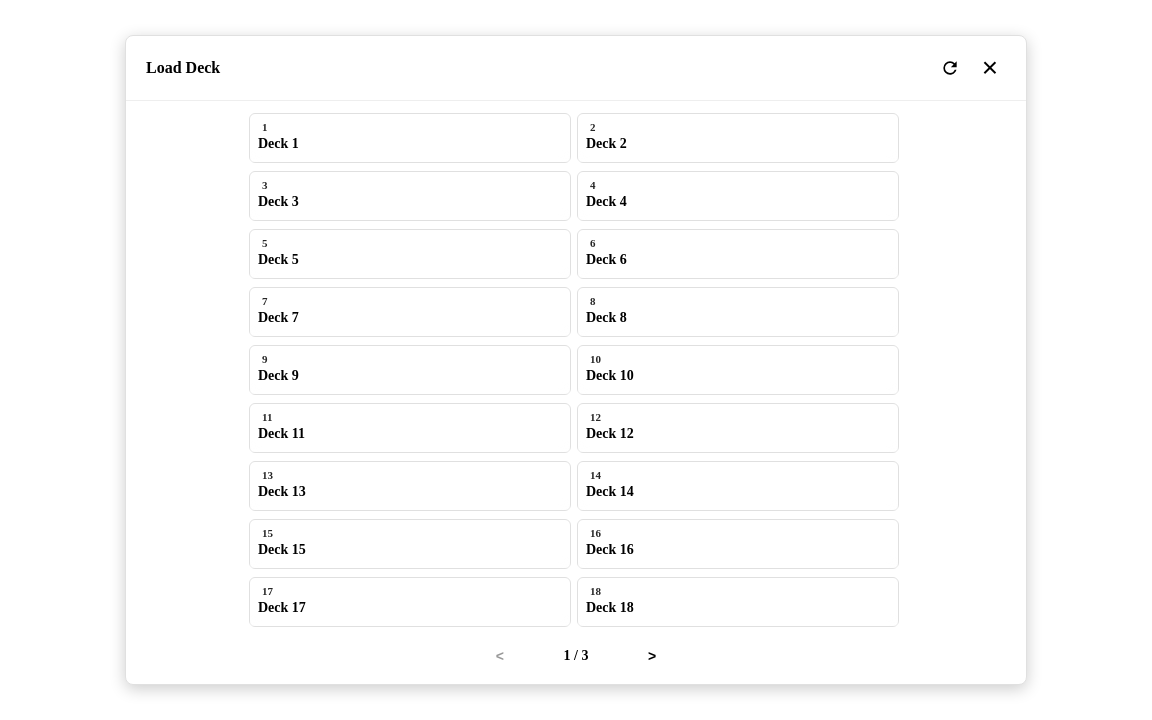
Scenario: LoadDialog.vue › ページネーション › 「前のページ」ボタンでページが移動する
Note: まず次のページへ移動
Click the button ">": click(652, 656) x1=632 y1=640 x2=672 y2=672
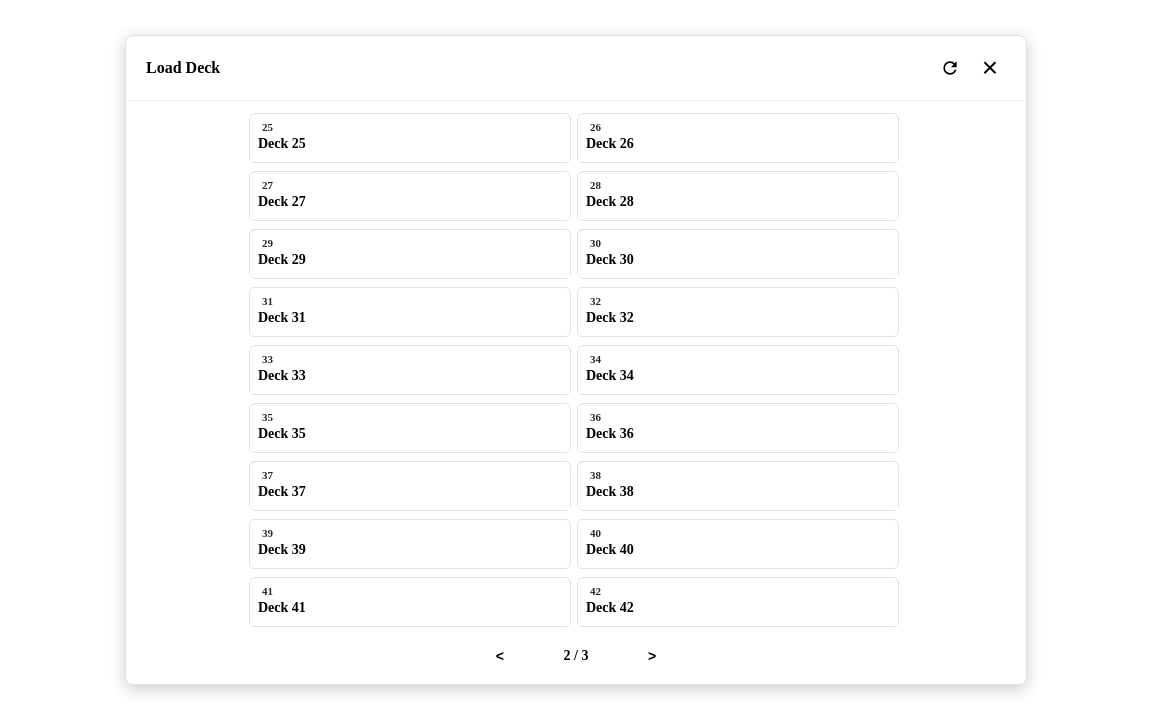
Check: the text "2 / 3" is shown, box x1=564 y1=648 x2=588 y2=663
Note: 前のページに戻る
Click the button "<": click(500, 656) x1=480 y1=640 x2=520 y2=672
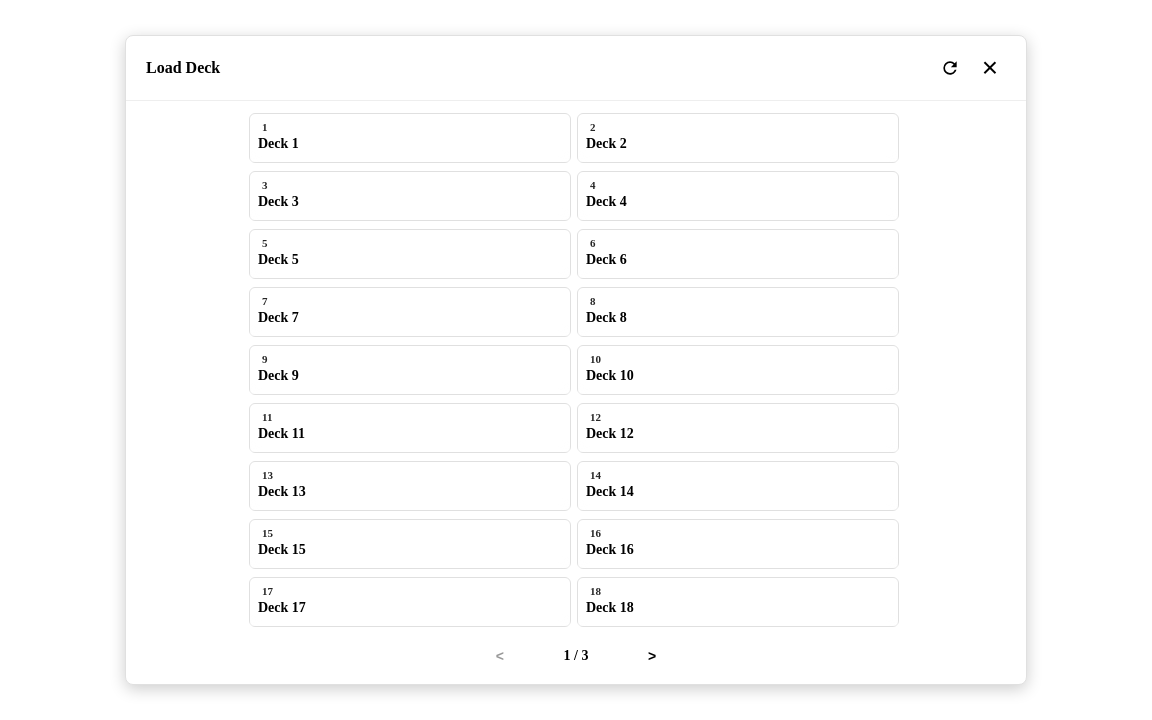
Check: the text "1 / 3" is shown, box x1=564 y1=648 x2=588 y2=663
